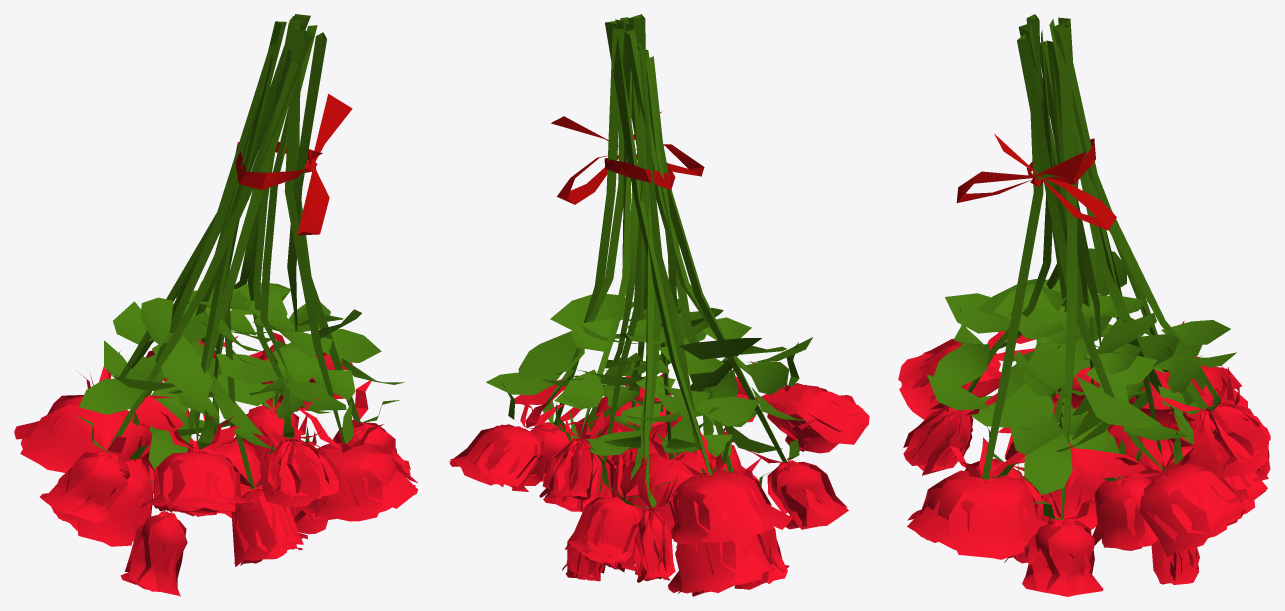
The model's file is Cv_Cvety_02.FBX.
3 views of the same model, side by side, from view 1: azimuth 30°, elevation 25°; view 2: azimuth 150°, elevation 25°; view 3: azimuth 270°, elevation 25° (orthographic). The views are drawn at different scales.
Visible parts, largest first — view 1: rouse001; view 2: rouse001; view 3: rouse001.
Boxes of the visible parts, x1=… form: rouse001: x1=14, y1=14, x2=417, y2=596; rouse001: x1=448, y1=14, x2=869, y2=596; rouse001: x1=898, y1=14, x2=1270, y2=596.
Size of the model in its own units: 0.00238 by 0.0035 by 0.00201.
